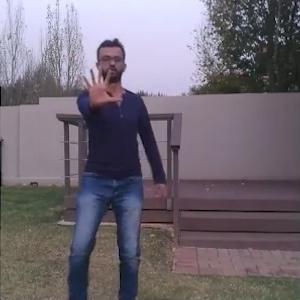follow_hand: (80, 63, 123, 106)
